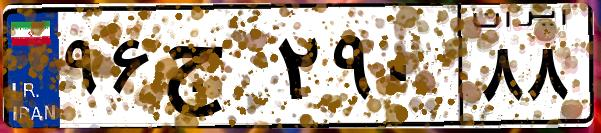0: (385, 28, 445, 110)
2: (270, 28, 330, 110)
6: (110, 28, 158, 98)
8: (475, 38, 525, 113), (525, 38, 570, 115)
9: (330, 28, 385, 110), (57, 26, 110, 100)
ج: (158, 20, 270, 120)
